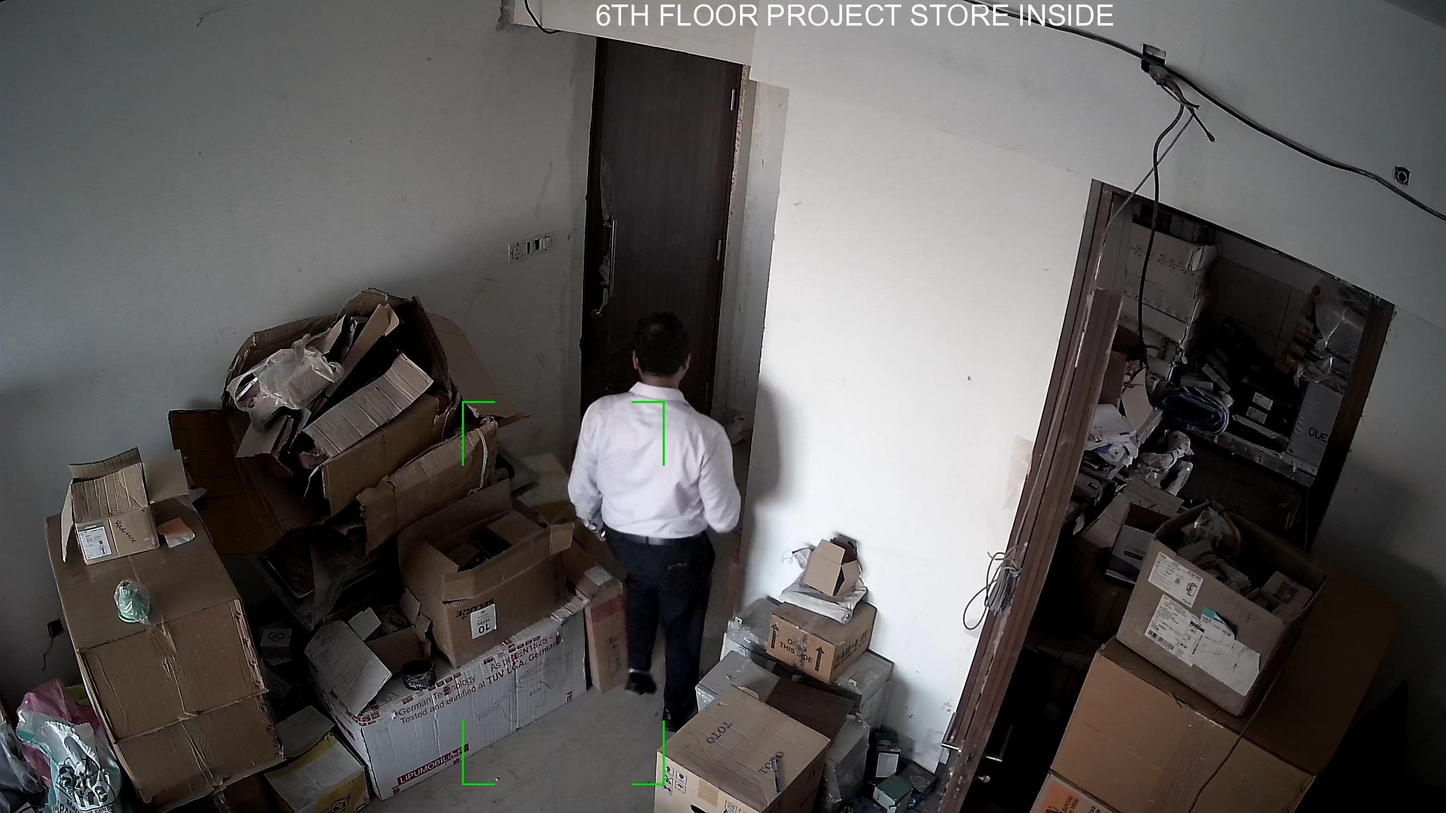Door-Close: (565, 36, 753, 466)
